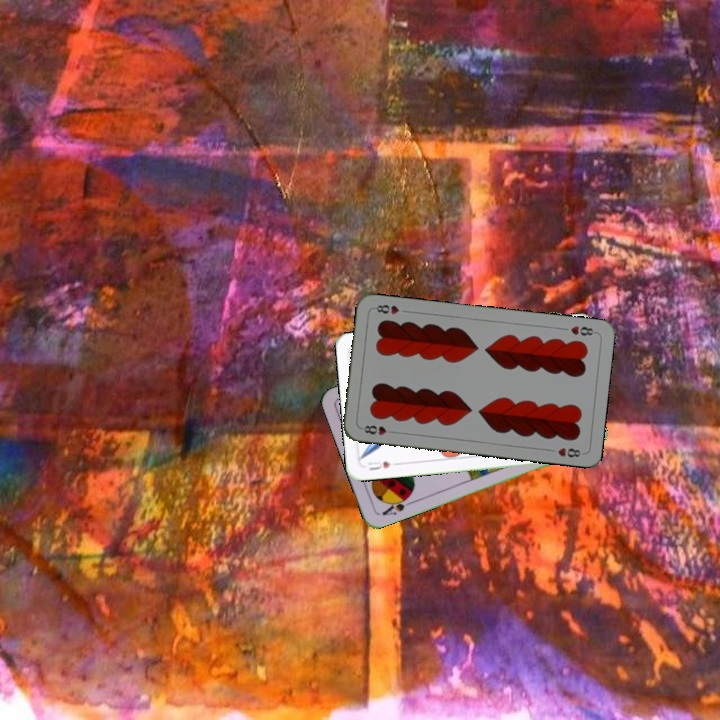H8: (357, 421, 398, 438), (567, 322, 599, 338)
HU: (364, 457, 393, 473)
SA: (378, 492, 416, 518)
